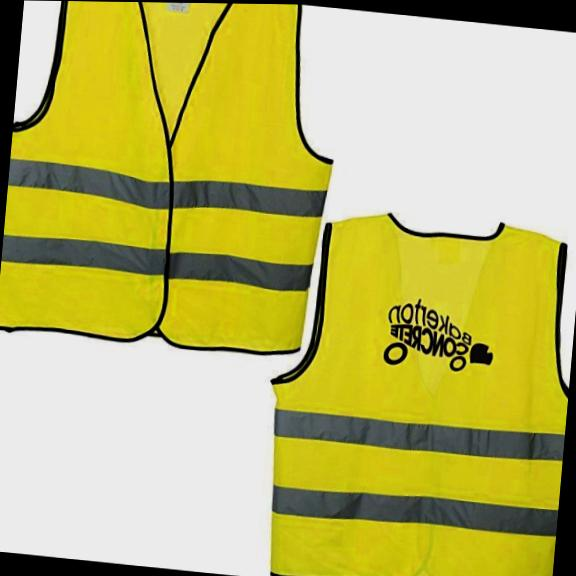safety_vest: (0, 0, 349, 370), (253, 198, 576, 576)
